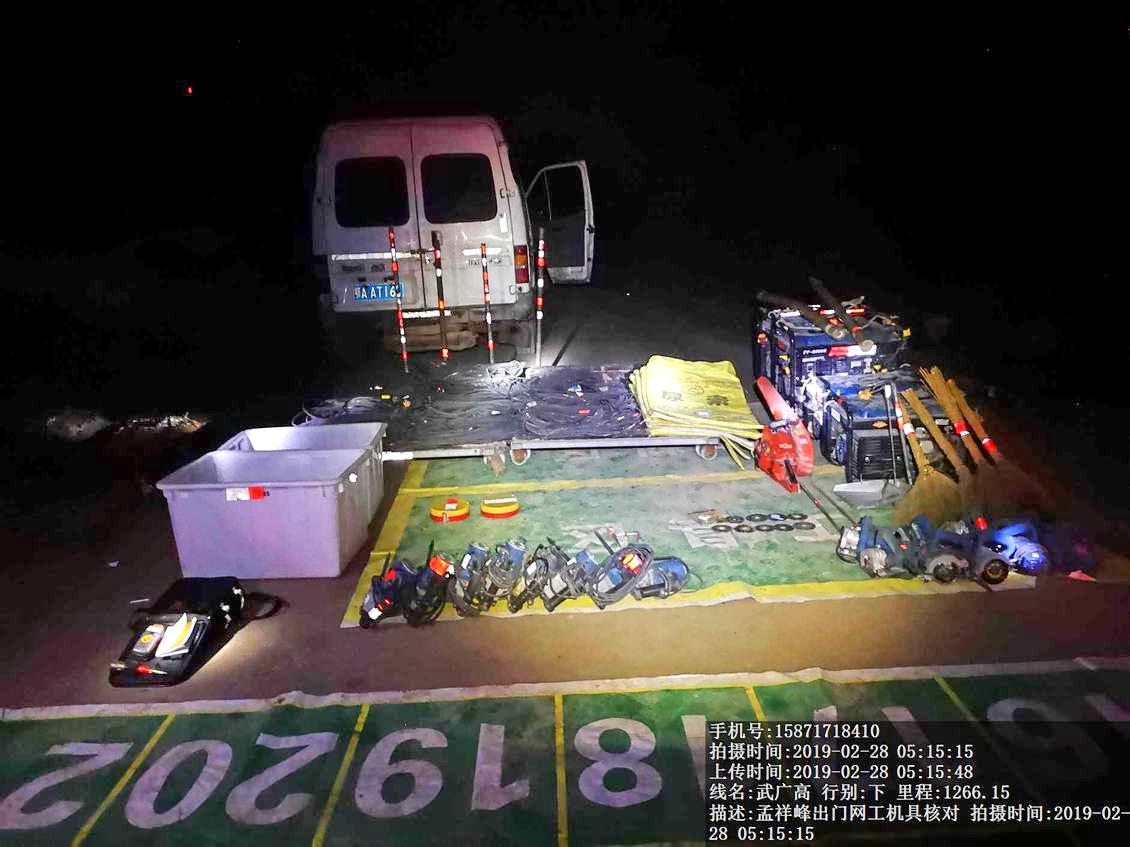BZD: (632, 355, 755, 462)
DJ: (761, 300, 921, 374)
DZ: (607, 521, 698, 602)
GFJ: (757, 376, 816, 492)
GJB: (97, 579, 279, 689)
JC: (420, 488, 471, 527), (472, 487, 524, 522)
SB: (883, 402, 958, 526)
T: (151, 449, 373, 582)
